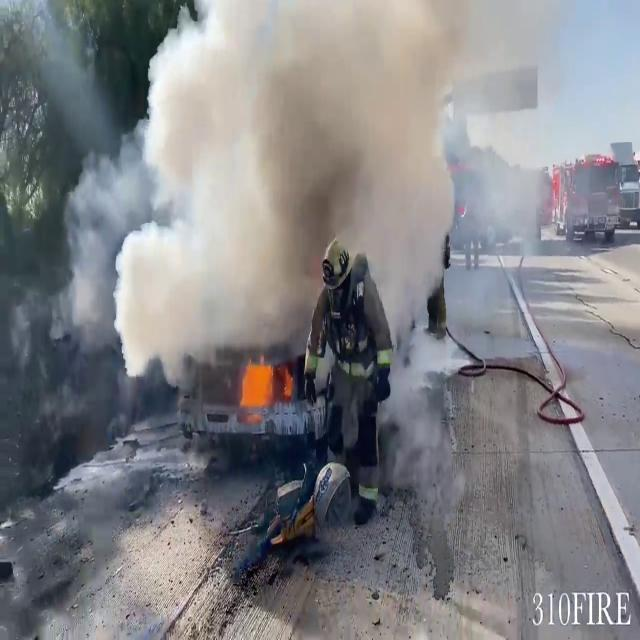Fire: (237, 348, 296, 418)
Smoke: (46, 0, 556, 327)
